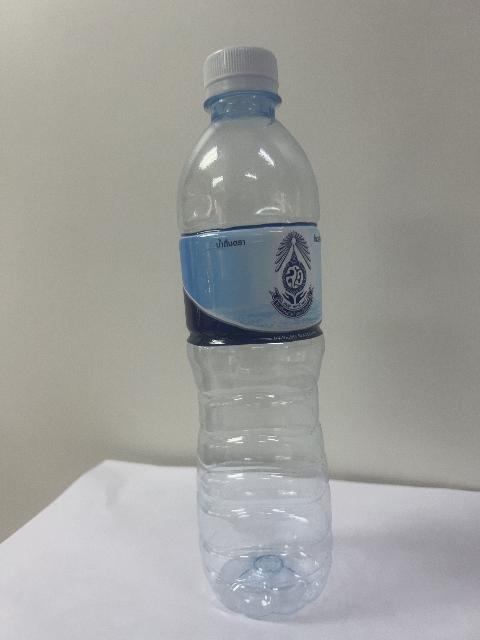bottle: (178, 47, 331, 617)
